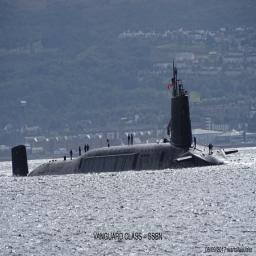submarine: (5, 53, 231, 166)
